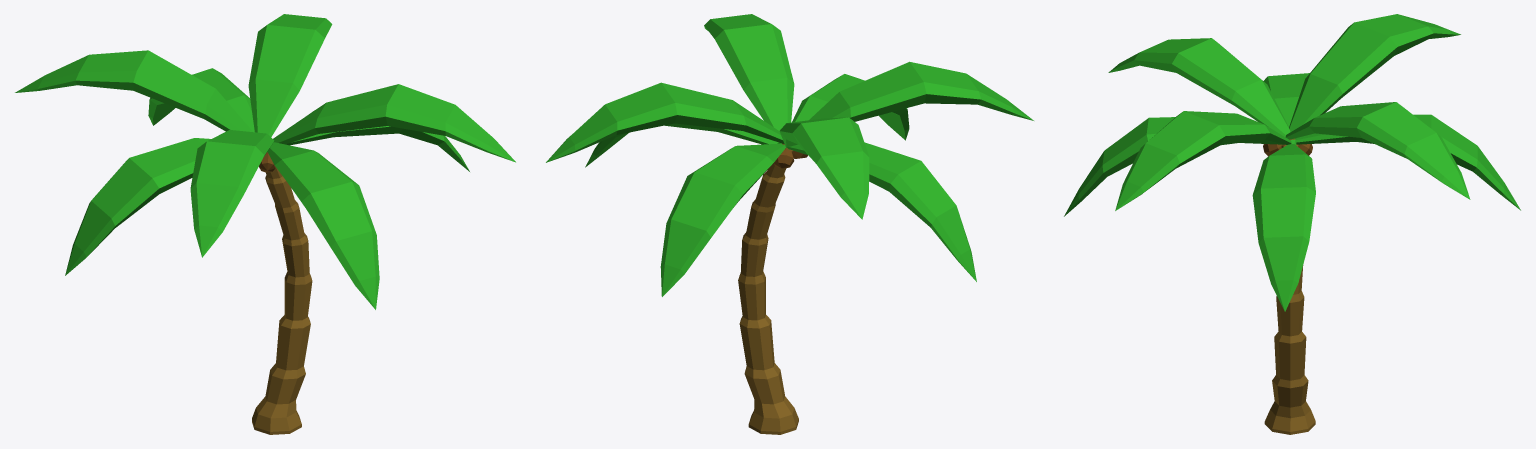
The model's file is tree.fbx.
3 renders of one model, left to right at view 1: azimuth 30°, elevation 25°; view 2: azimuth 150°, elevation 25°; view 3: azimuth 270°, elevation 25°, orthographic.
Visible parts, largest first — view 1: tree; view 2: tree; view 3: tree.
Boxes of the visible parts, x1,y1,x2,y2 form: tree: (15,14,515,434); tree: (546,14,1033,434); tree: (1064,14,1520,434).
Size of the model in its own units: 482 by 412 by 488.
